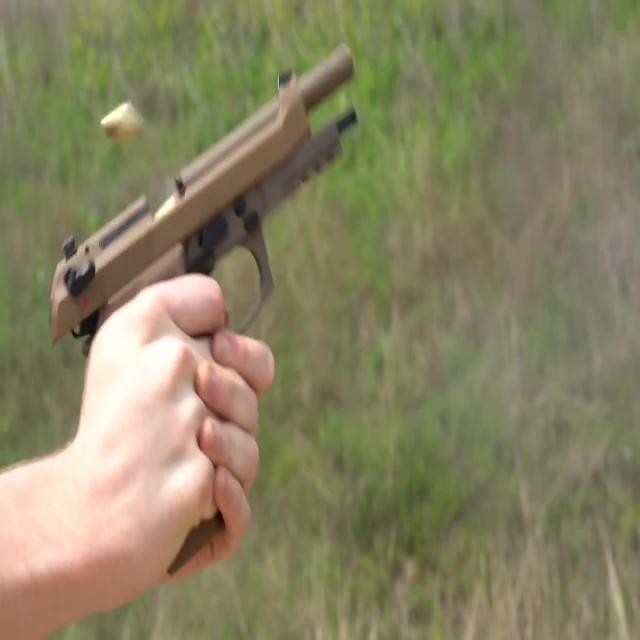Weapon: (29, 22, 426, 559)
